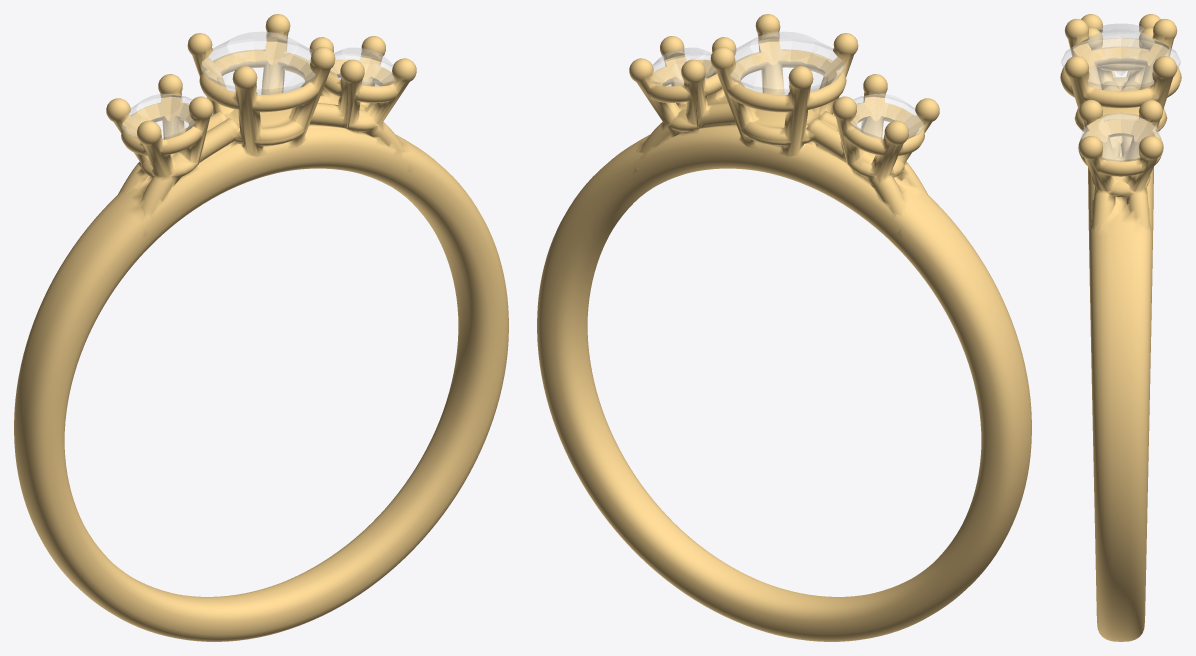
The model's file is ring_three_stone.glb.
The picture shows the model from 3 angles, left to right: view 1: azimuth 30°, elevation 25°; view 2: azimuth 150°, elevation 25°; view 3: azimuth 270°, elevation 25°; orthographic projection. The views are drawn at different scales.
Parts seen in each view (by area): view 1: gold, centre_stone, side-1_stone, side1_stone; view 2: gold, centre_stone, side-1_stone, side1_stone; view 3: gold, centre_stone, side1_stone, side-1_stone.
Boxes of the visible parts, x1,y1,x2,y2 form: gold: (14,14,508,641); centre_stone: (201,32,315,94); side-1_stone: (122,94,195,139); side1_stone: (329,48,395,86); gold: (537,14,1031,641); centre_stone: (730,32,844,94); side-1_stone: (850,94,923,139); side1_stone: (650,48,716,86); gold: (1060,14,1181,641); centre_stone: (1061,29,1180,91); side1_stone: (1081,113,1160,161); side-1_stone: (1097,24,1144,75).
Size of the model in its own units: 0.0206 by 0.0241 by 0.00458.
